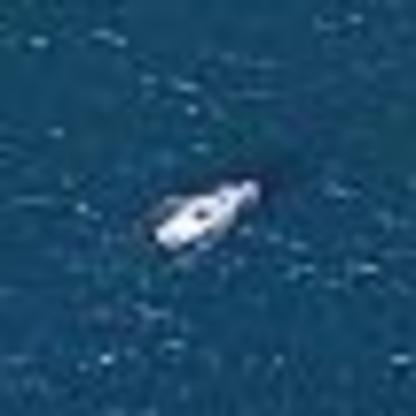ship: (136, 170, 270, 262)
